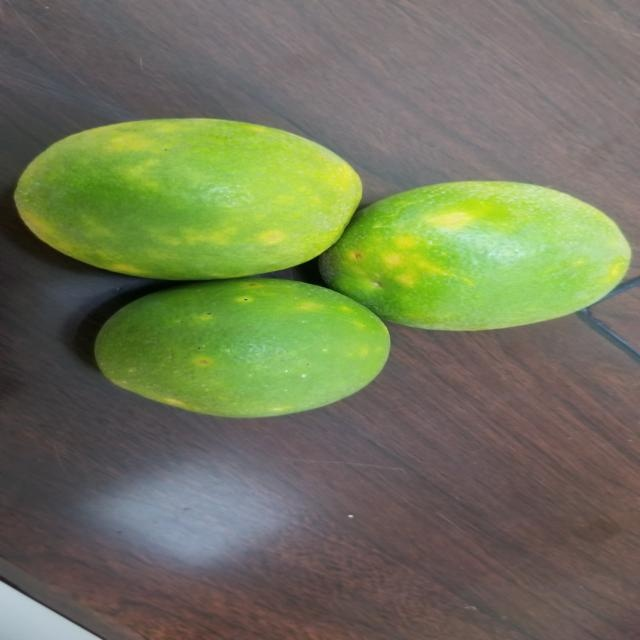agrume: (75, 268, 415, 440), (287, 173, 640, 338), (16, 113, 366, 276)
